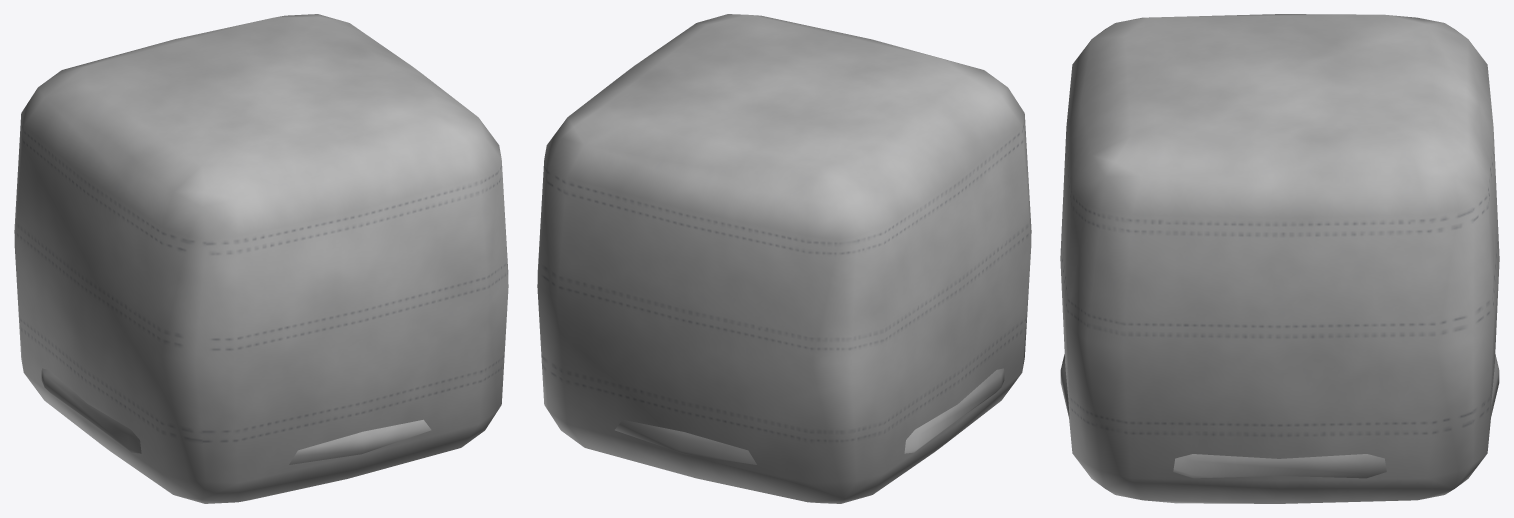
Rendered from RightLowerArm_C1.fbx.
3 renders of one model, left to right at view 1: azimuth 30°, elevation 25°; view 2: azimuth 150°, elevation 25°; view 3: azimuth 270°, elevation 25°, orthographic. The views are drawn at different scales.
Visible parts, largest first — view 1: Civ_BuzoCapucha_RightLowerArm_C1; view 2: Civ_BuzoCapucha_RightLowerArm_C1; view 3: Civ_BuzoCapucha_RightLowerArm_C1.
Boxes of the visible parts, x1=… form: Civ_BuzoCapucha_RightLowerArm_C1: x1=14, y1=14, x2=508, y2=503; Civ_BuzoCapucha_RightLowerArm_C1: x1=537, y1=14, x2=1031, y2=503; Civ_BuzoCapucha_RightLowerArm_C1: x1=1060, y1=14, x2=1499, y2=503.
Bounding box in the file's own units: 1.29 × 1.19 × 1.29.
